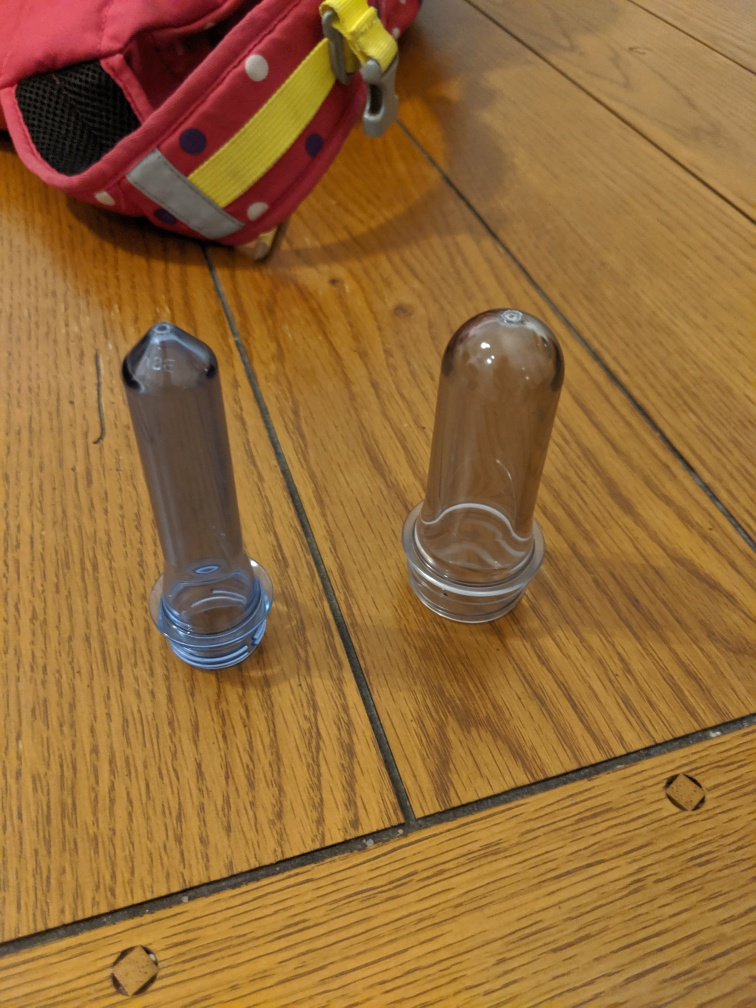preform: (114, 314, 285, 674), (394, 296, 573, 634)
